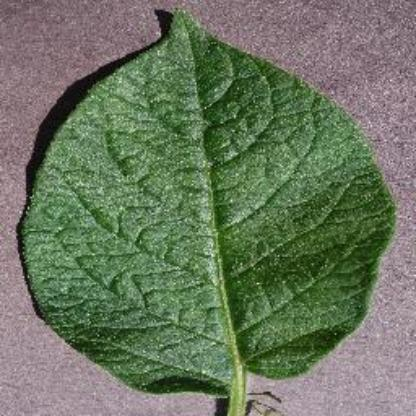Healthy-plant: (27, 14, 399, 402)
